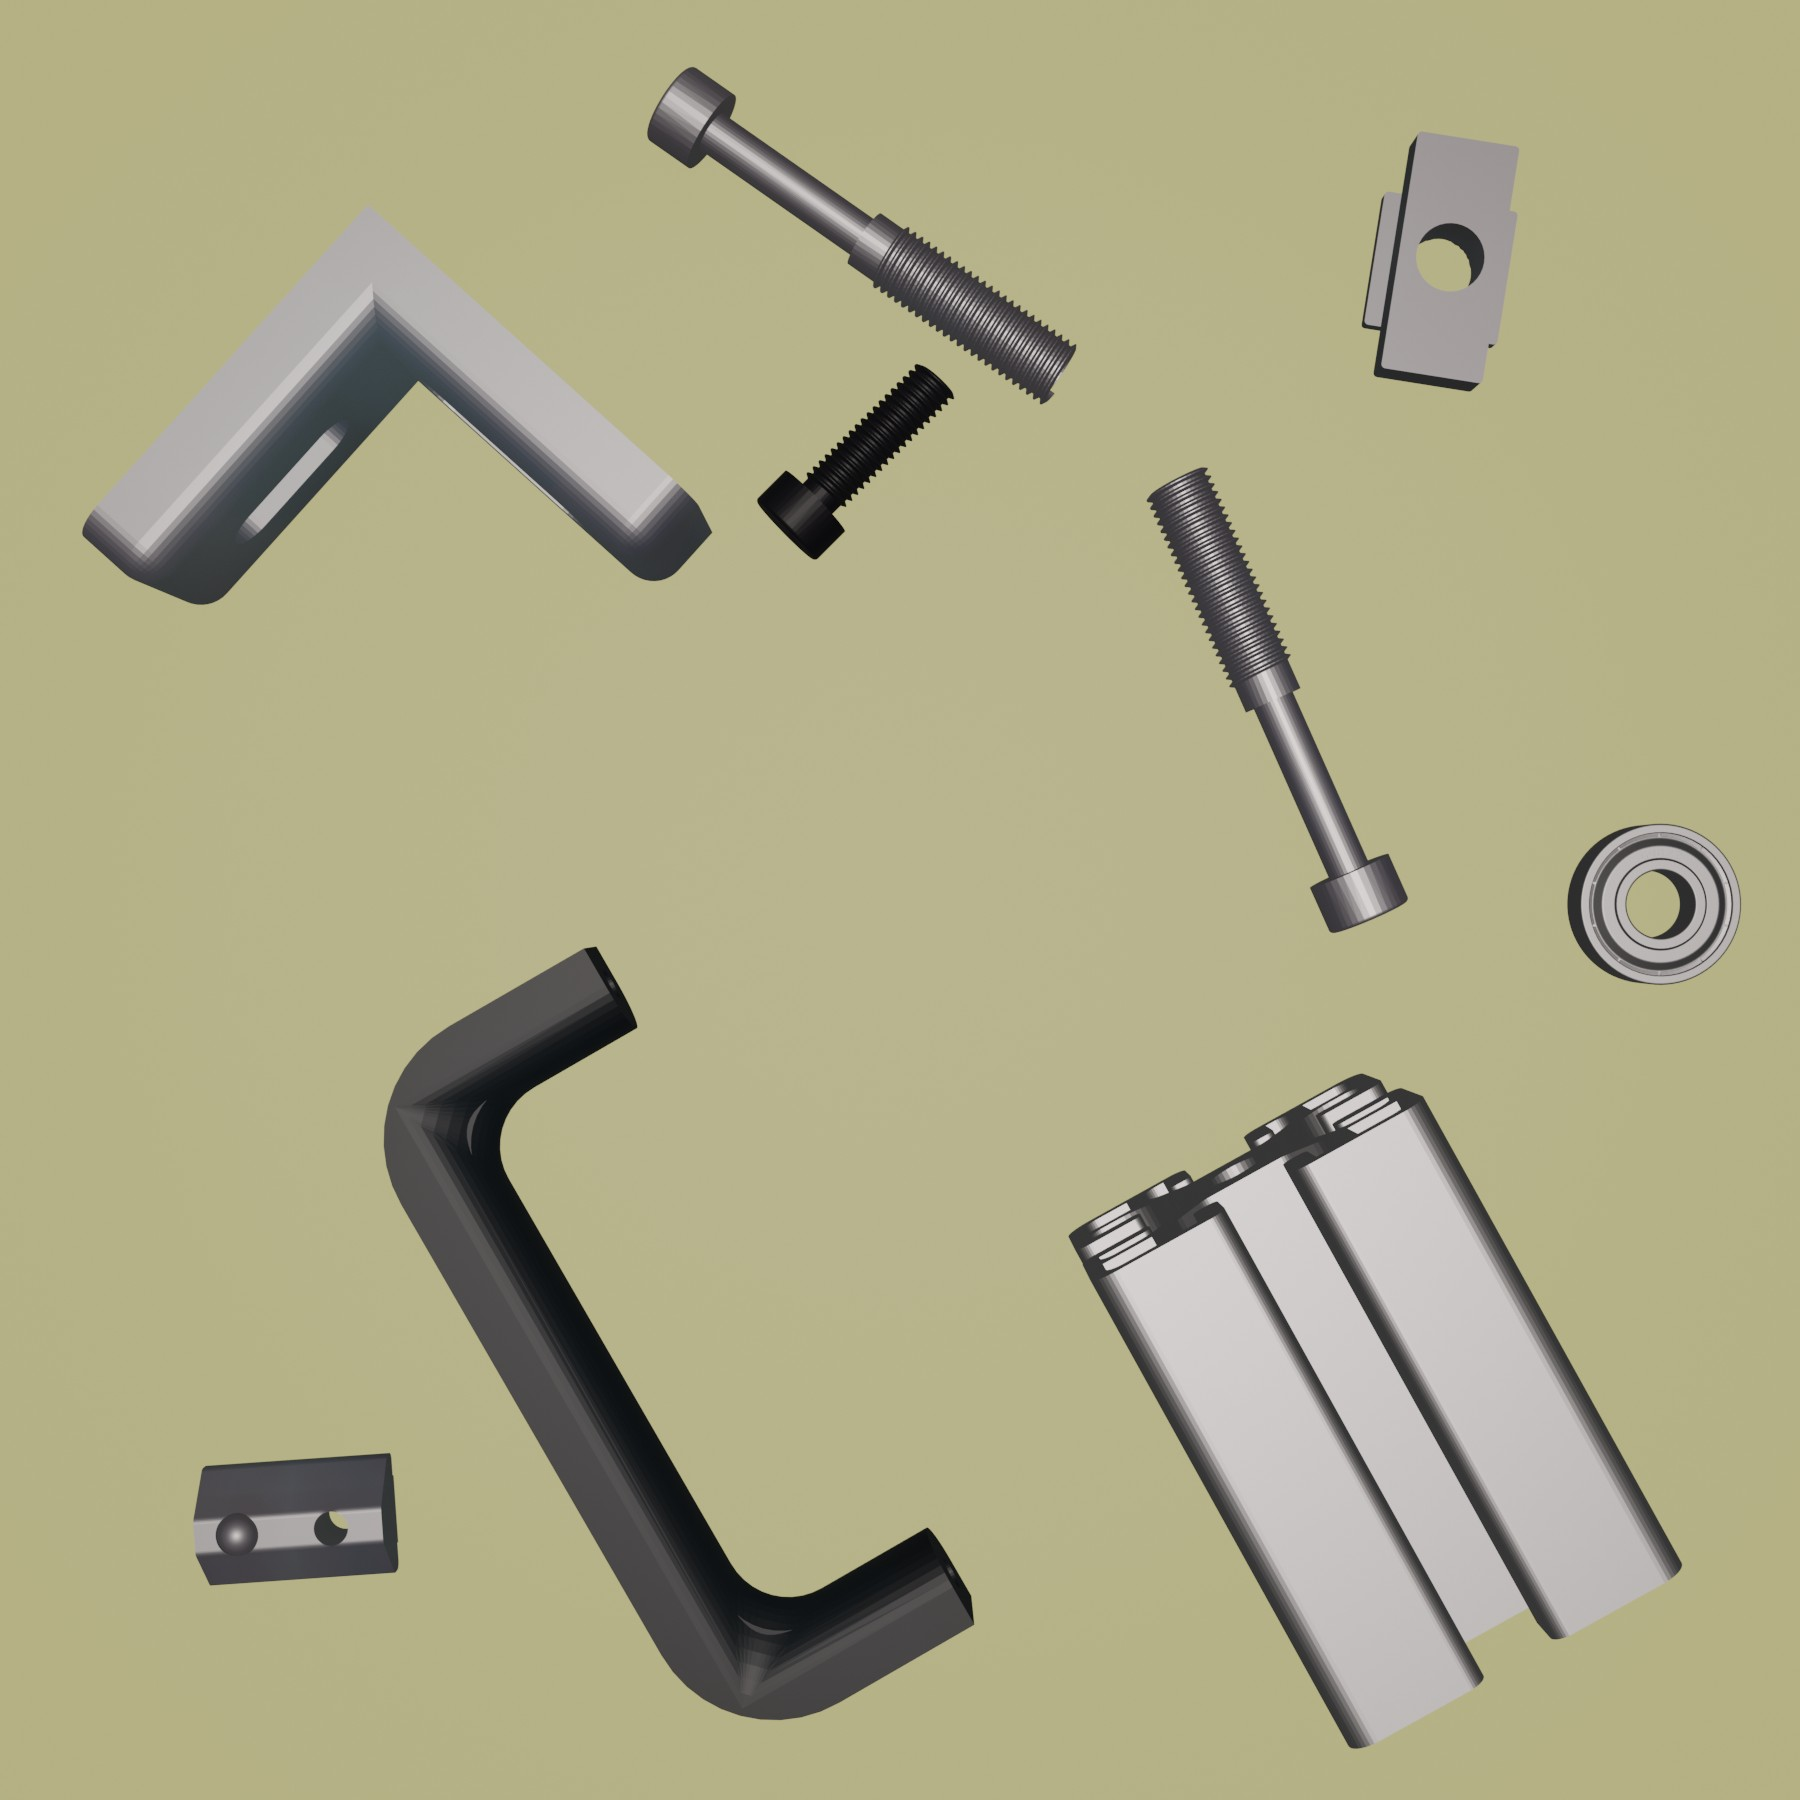Aluminium Extension: (1062, 1070, 1683, 1752)
Ball Bearing: (1564, 819, 1742, 989)
Multiwinkel: (77, 198, 715, 607)
Pull Handle: (381, 941, 977, 1719)
Shoulder Socket Head Cap Screw: (641, 64, 1080, 409), (1142, 462, 1411, 936)
Socket Head Cap Screw: (753, 359, 954, 564)
T Nut Square: (1358, 125, 1525, 396)
T Spring Nut: (190, 1446, 402, 1589)
